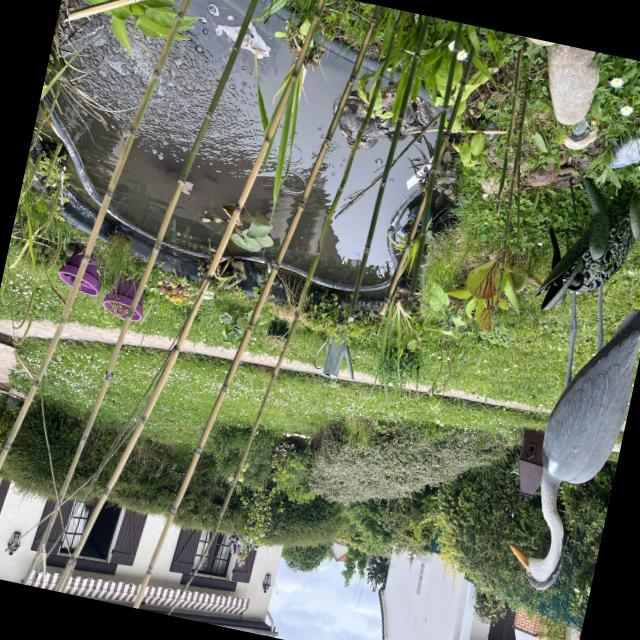Heron: (489, 209, 640, 605)
